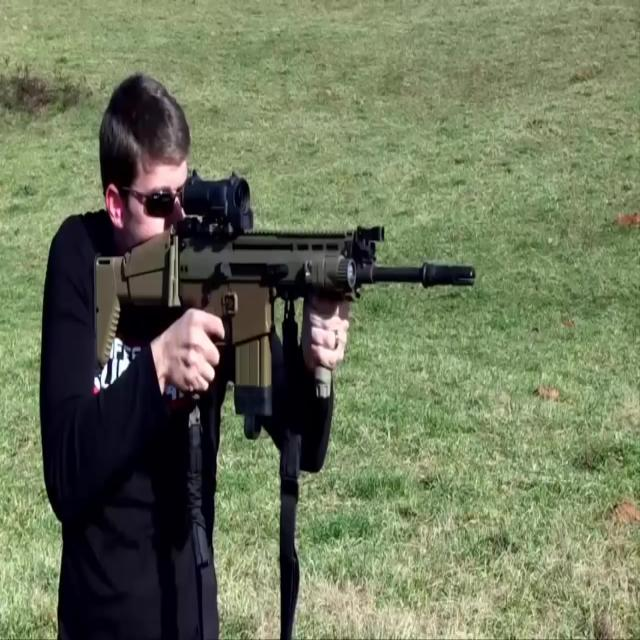Weapon: (59, 159, 513, 457)
